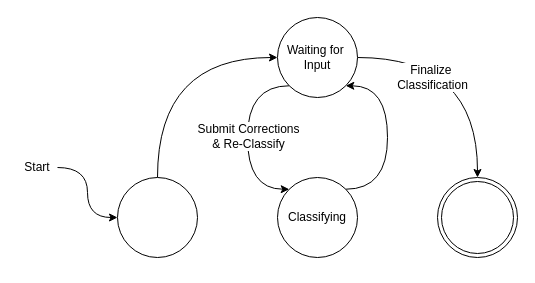
Some shapes in this 535 by 283 pixel diagram are drawn without their labels. The centre of each missing label's shape, as x and y in pixels:
"Export" goes at (x=477, y=217).
"Import" goes at (x=157, y=217).
